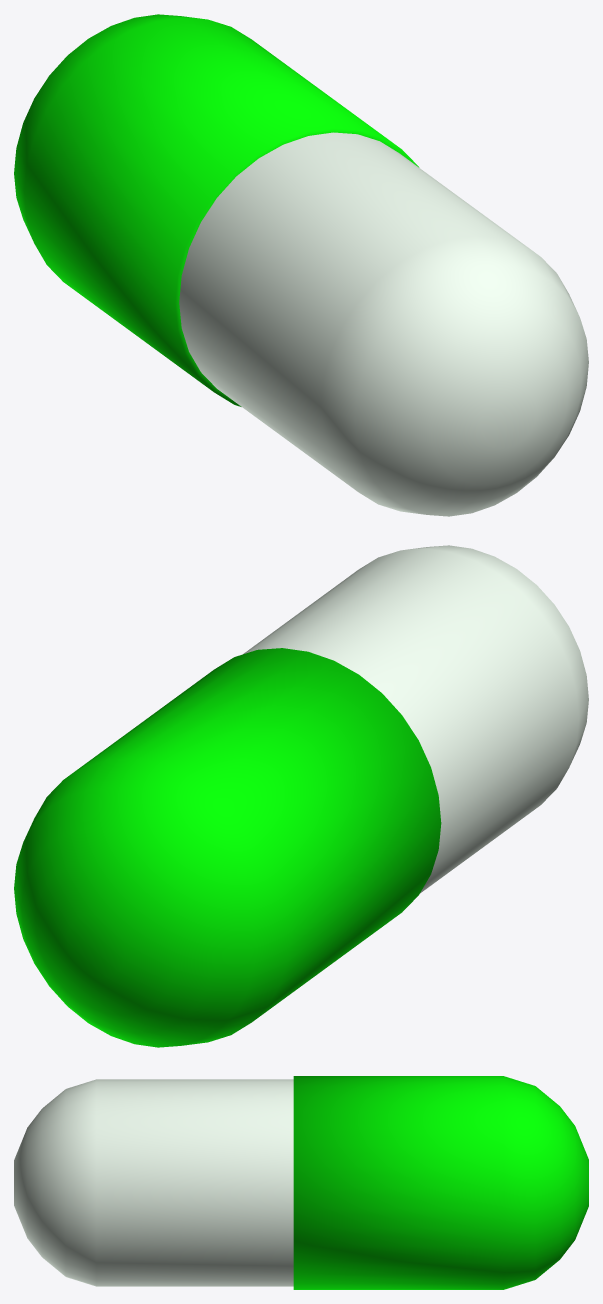
Rendered from capsule_green.glb.
The picture shows the model from 3 angles, top to bottom: view 1: azimuth 30°, elevation 25°; view 2: azimuth 150°, elevation 25°; view 3: azimuth 270°, elevation 25°; orthographic projection. The views are drawn at different scales.
Parts seen in each view (by area): view 1: Cylinder.001; view 2: Cylinder.001; view 3: Cylinder.001.
Boxes of the visible parts, bbox=[...] form: Cylinder.001: bbox=[14, 14, 588, 516]; Cylinder.001: bbox=[14, 545, 588, 1047]; Cylinder.001: bbox=[14, 1076, 588, 1289].
Size of the model in its own units: 1.74 by 1.74 by 4.69.
1 material, 1 textured.
